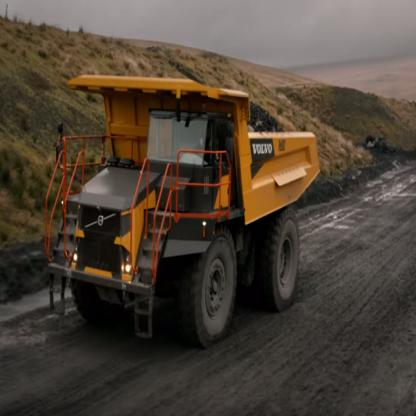dump_truck: (34, 66, 325, 349)
